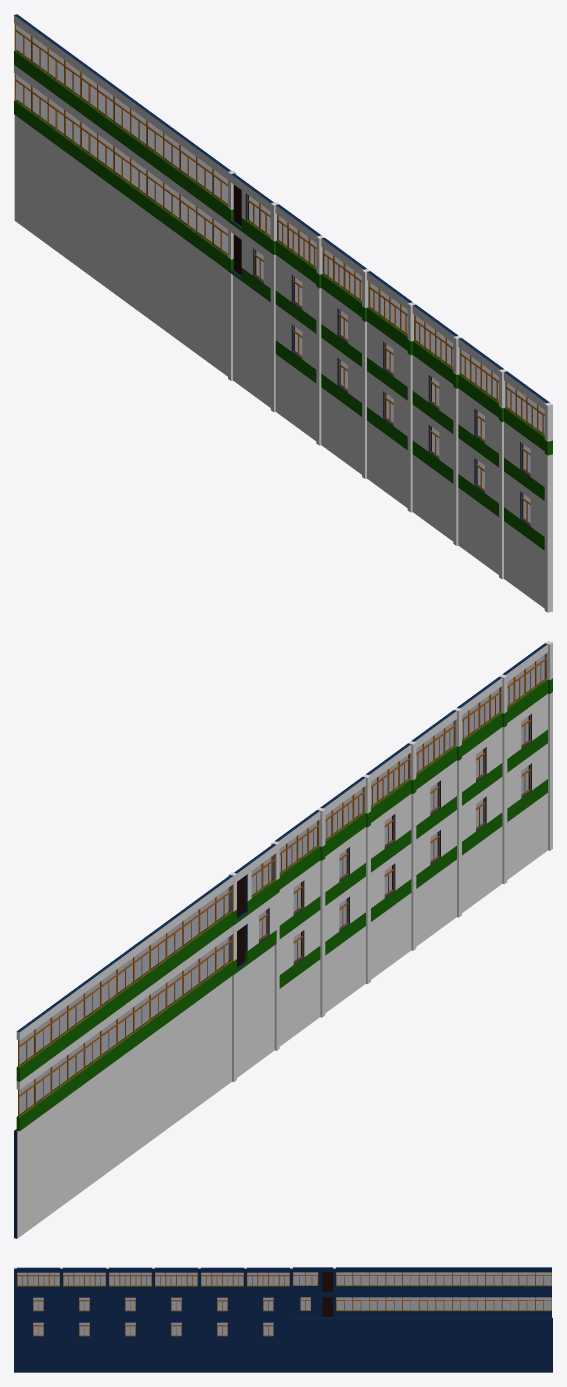
3 views of the same model, one above another, from view 1: azimuth 30°, elevation 25°; view 2: azimuth 150°, elevation 25°; view 3: azimuth 270°, elevation 25° (orthographic). The views are drawn at different scales.
Parts seen in each view (by area): view 1: Object239; view 2: Object239; view 3: Object239.
Part boxes in pixels (bbox=[...]): Object239: bbox=[14, 14, 552, 612]; Object239: bbox=[14, 641, 552, 1238]; Object239: bbox=[14, 1267, 552, 1372].
Bounding box in the file's own units: 40 × 1500 × 7032.
